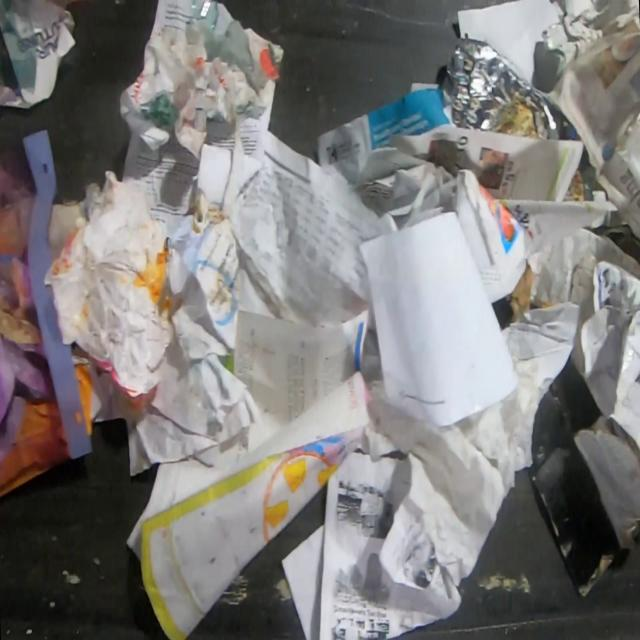cardboard: (502, 225, 640, 553), (528, 355, 620, 601)
soft_plastic: (438, 37, 565, 141)
